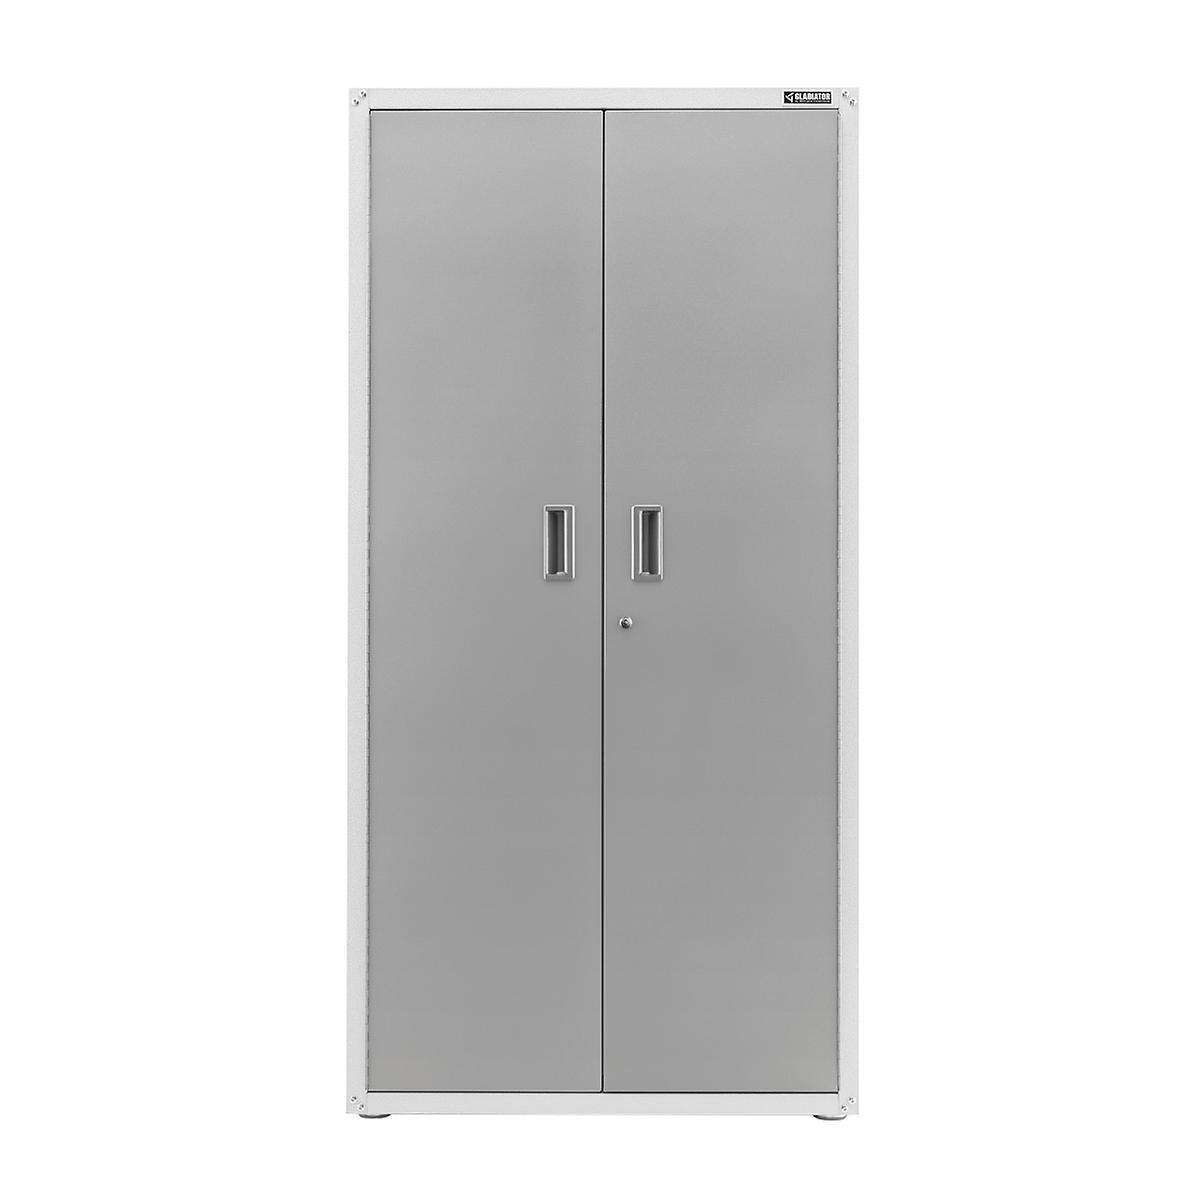cabinet_door: (602, 116, 838, 1088), (370, 108, 600, 1095)
handle: (544, 501, 567, 581), (637, 504, 660, 584)
